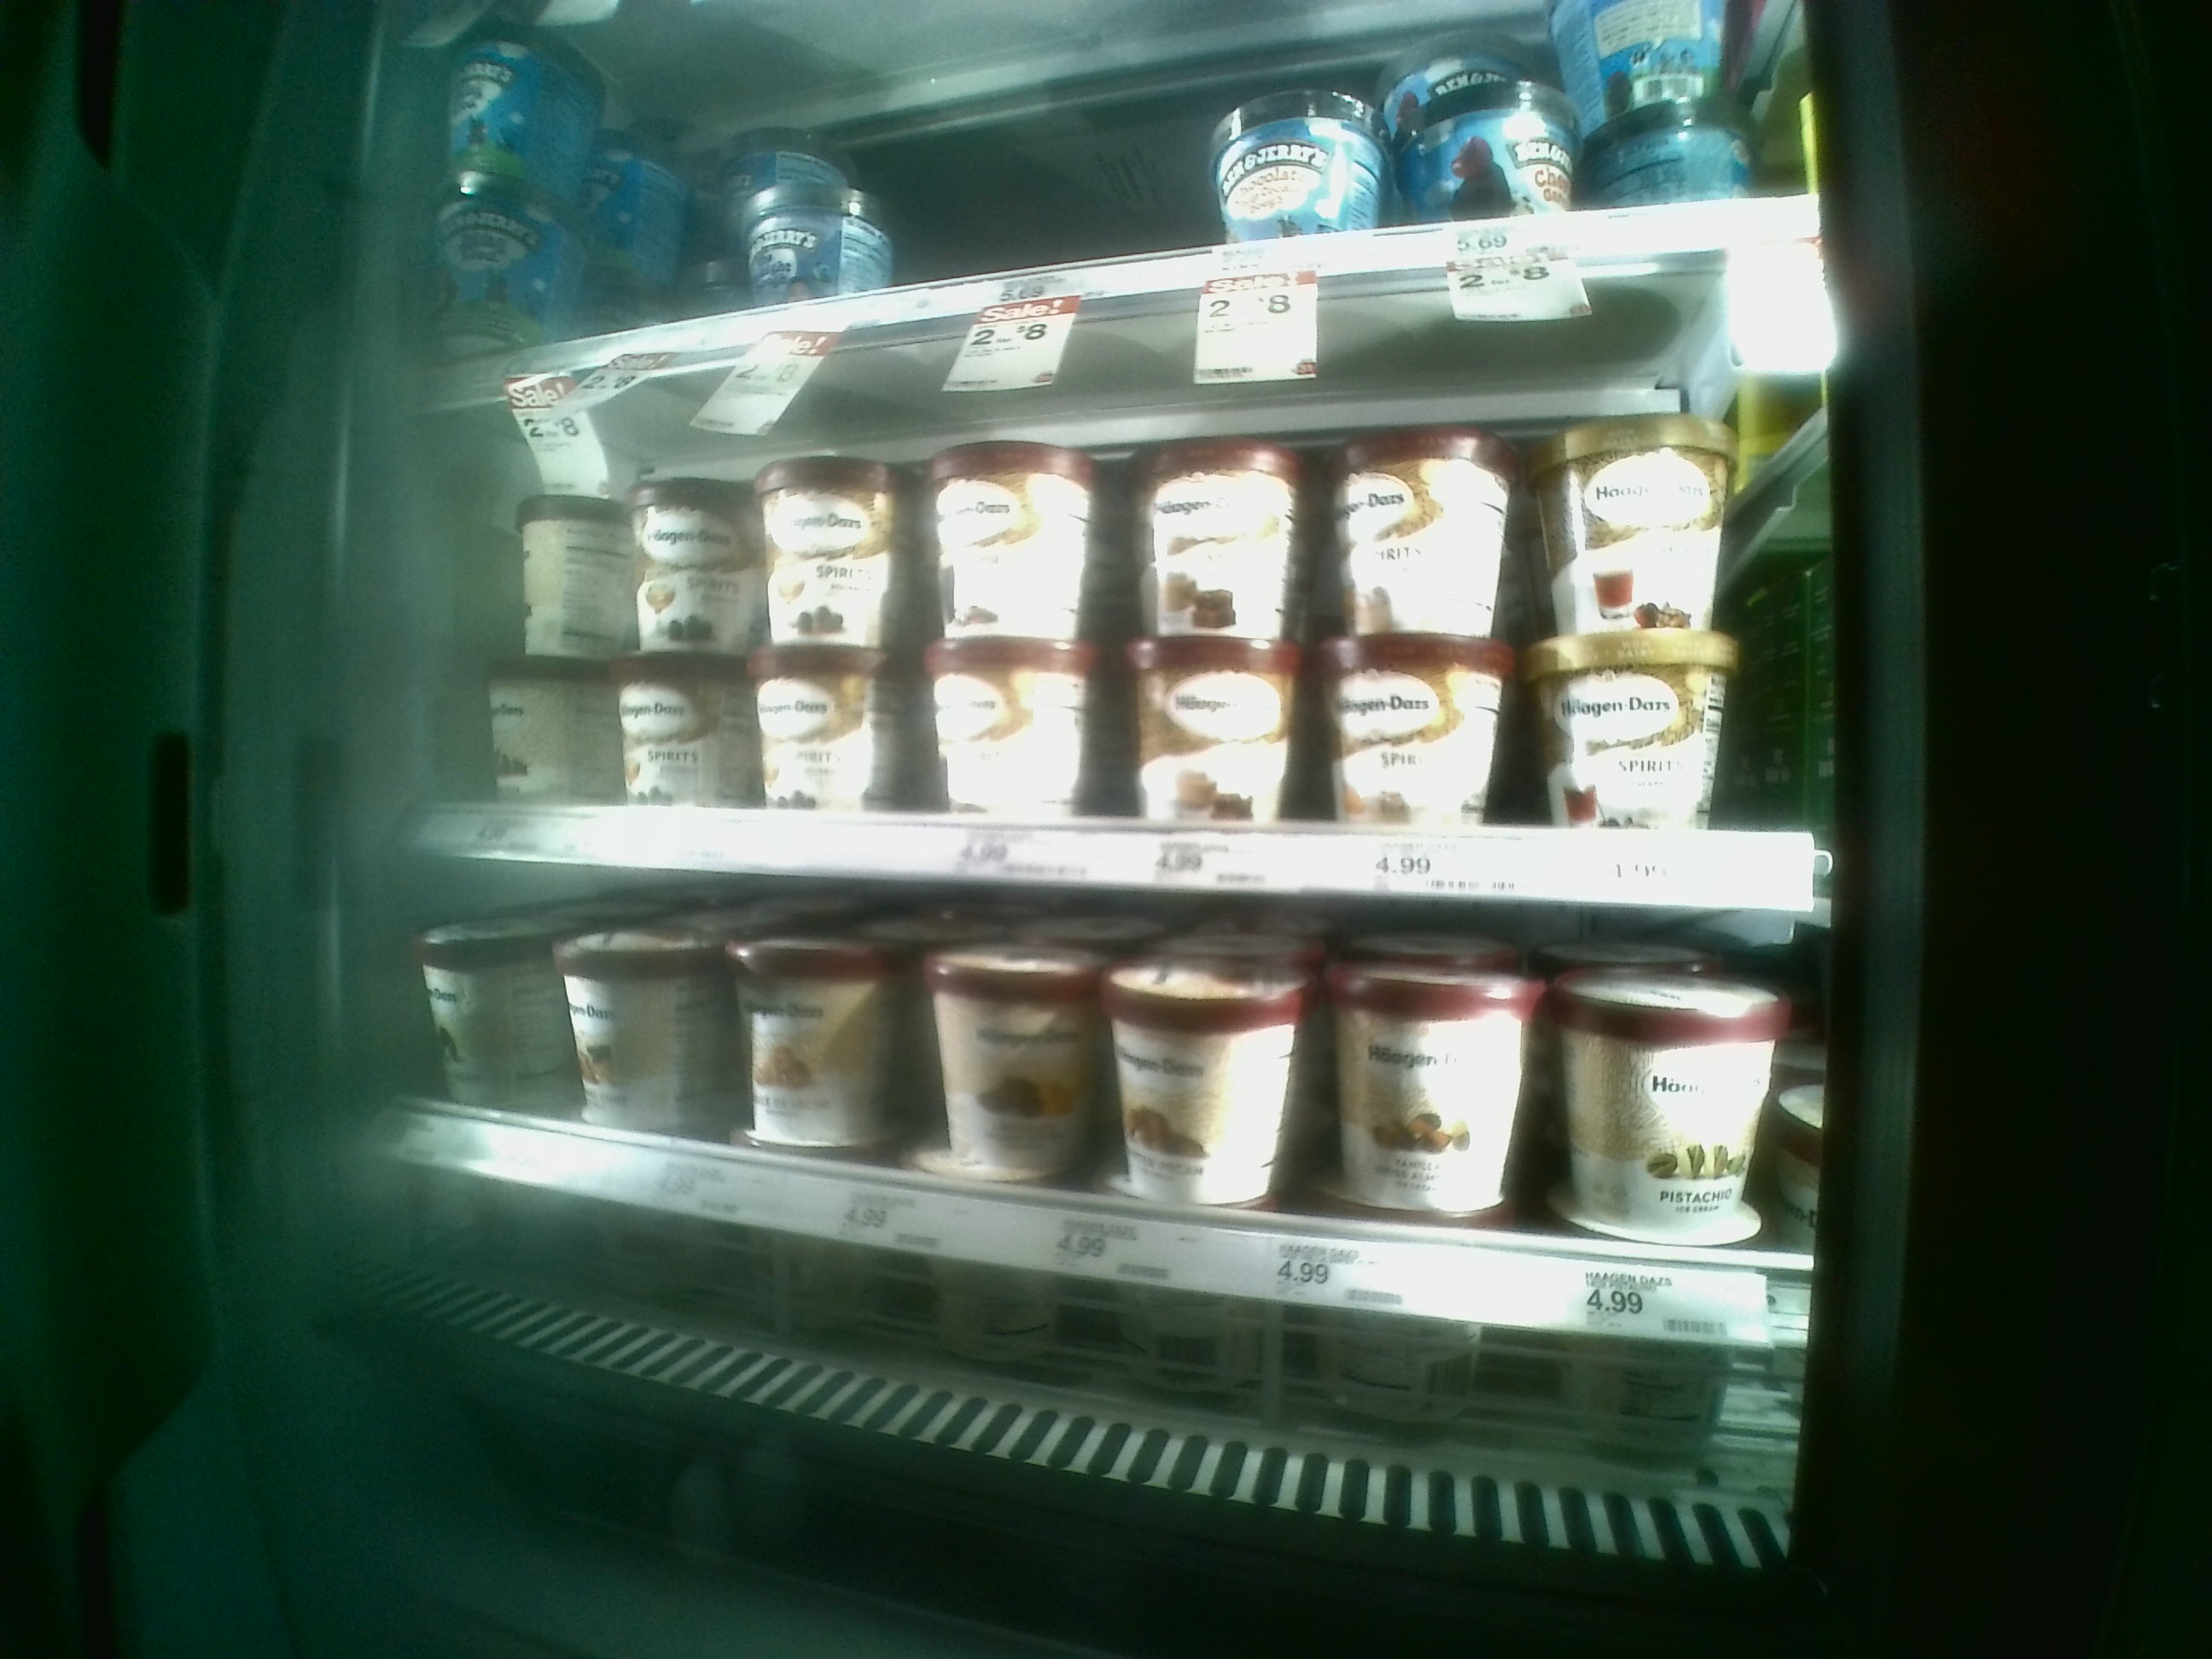shelf: (434, 254, 1825, 913), (421, 863, 1797, 1480)
